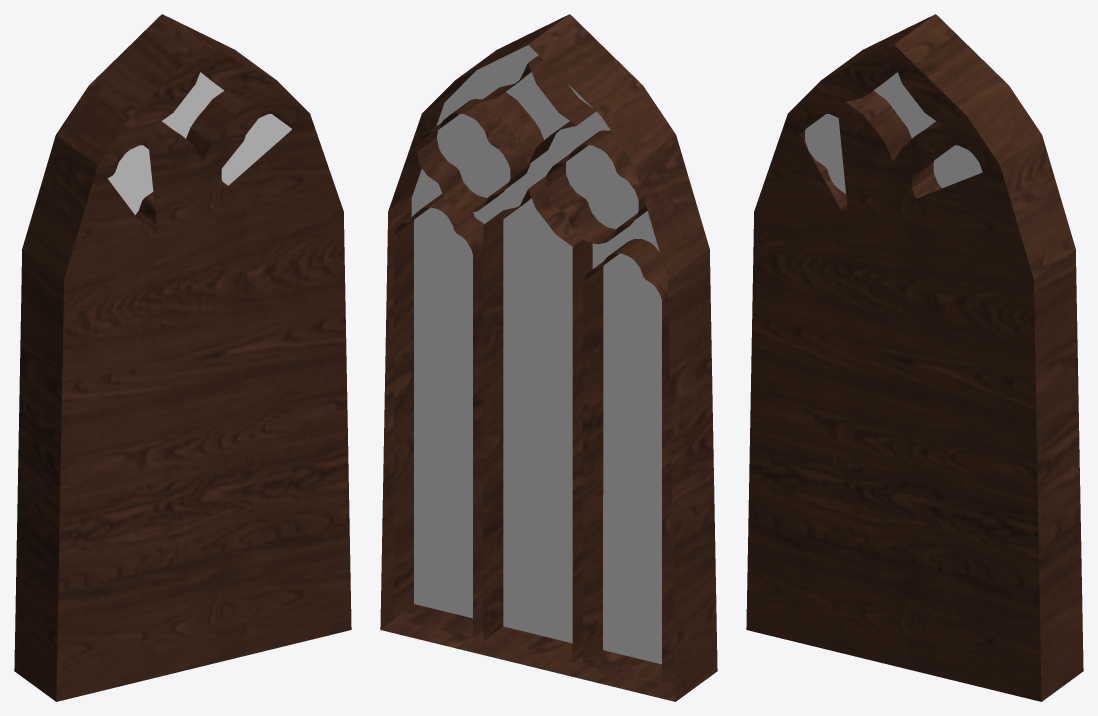
Rendered from window_1.fbx.
3 views of the same model, side by side, from view 1: azimuth 30°, elevation 25°; view 2: azimuth 150°, elevation 25°; view 3: azimuth 330°, elevation 25° (orthographic).
Visible parts, largest first — view 1: Circle, Circle.001; view 2: Circle, Circle.001; view 3: Circle, Circle.001.
Boxes of the visible parts, x1,y1,x2,y2 form: Circle: (14,14,351,701); Circle.001: (107,72,291,214); Circle: (380,14,717,701); Circle.001: (411,45,661,664); Circle: (746,14,1083,701); Circle.001: (805,72,982,193).
Bounding box in the file's own units: 151 × 304 × 37.21.
